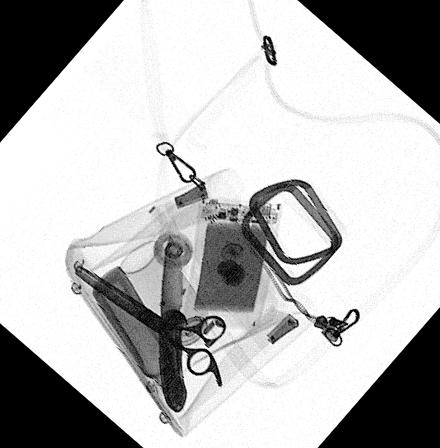Knife: (156, 227, 191, 413)
Powerbank: (180, 196, 284, 326)
Scissors: (73, 264, 228, 388)
Sprayer: (120, 240, 224, 376)
